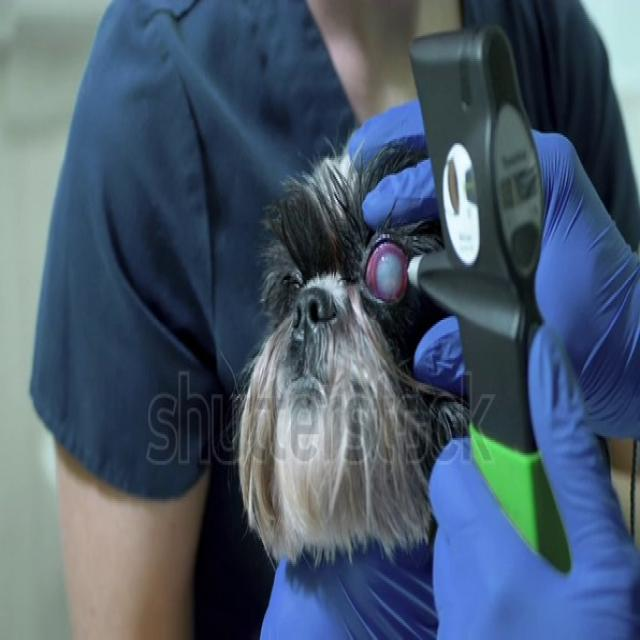injured-animals: (232, 104, 604, 634)
